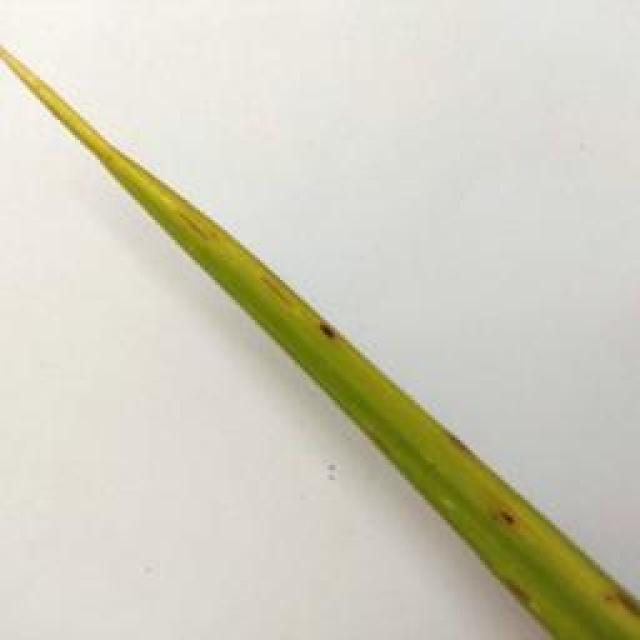Brown_Spot: (157, 189, 229, 252), (253, 272, 304, 316), (603, 585, 638, 632), (507, 567, 539, 610), (482, 502, 522, 532), (311, 306, 339, 338)
